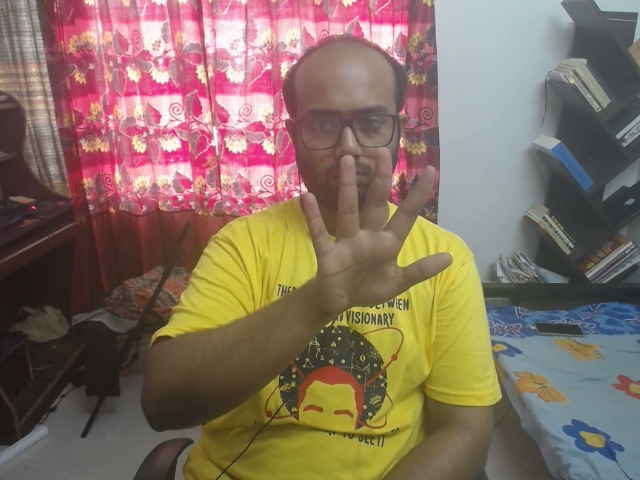five: (281, 134, 462, 333)
